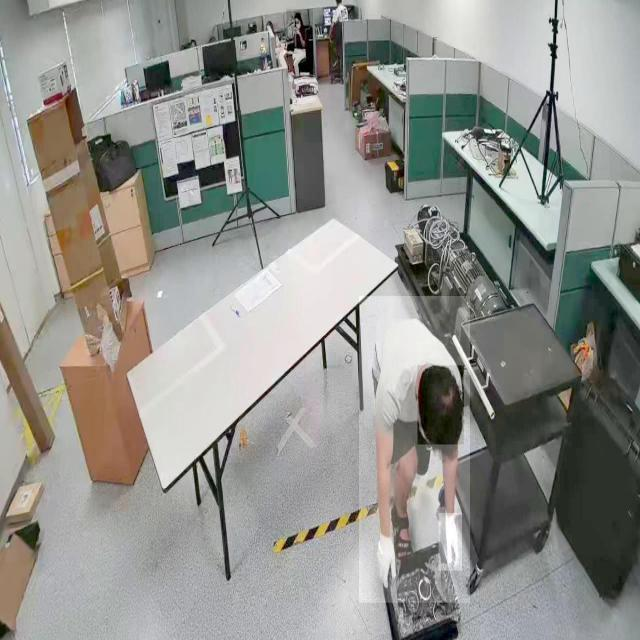gloves: (373, 530, 399, 590), (438, 512, 462, 572)
